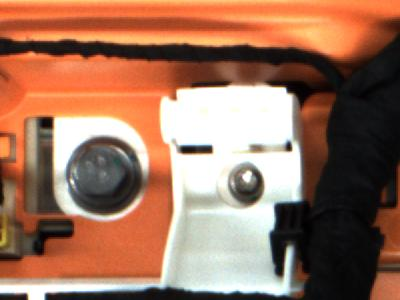nut_b: (65, 138, 145, 211)
screw_m: (221, 160, 270, 205)
